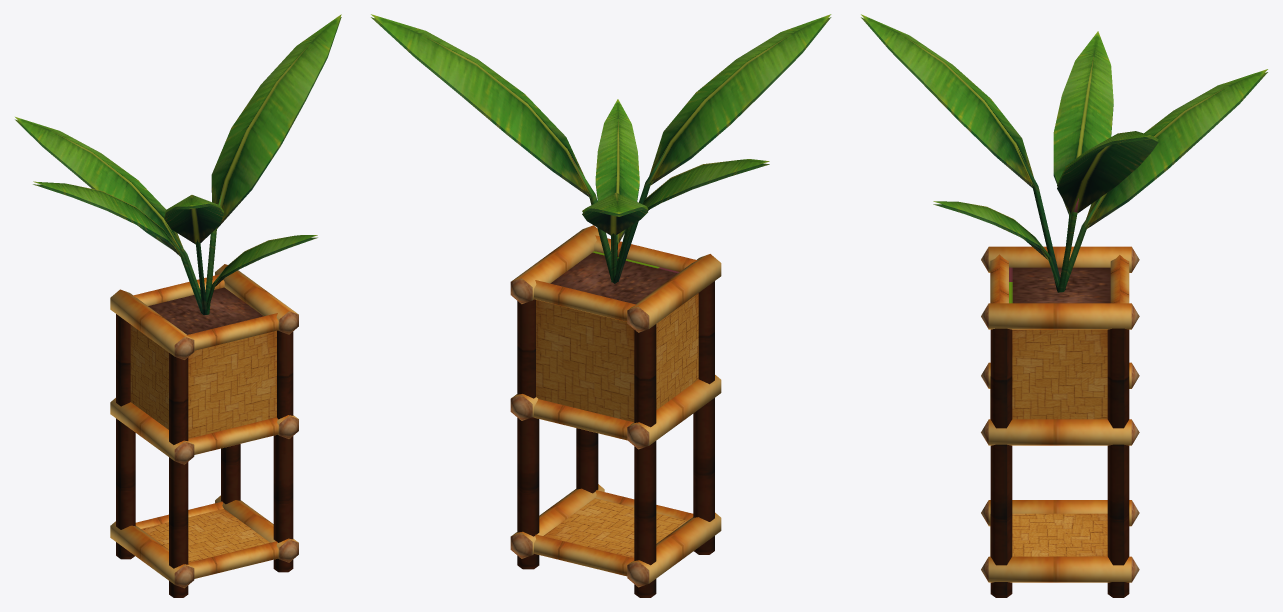
File: Bamboo_Plant_01.FBX
3 views of the same model, side by side, from view 1: azimuth 30°, elevation 25°; view 2: azimuth 150°, elevation 25°; view 3: azimuth 270°, elevation 25° (orthographic). The views are drawn at different scales.
Parts seen in each view (by area): view 1: Bamboo_Plant_01; view 2: Bamboo_Plant_01; view 3: Bamboo_Plant_01.
Boxes of the visible parts, x1,y1,x2,y2 form: Bamboo_Plant_01: [15, 14, 341, 597]; Bamboo_Plant_01: [371, 14, 831, 597]; Bamboo_Plant_01: [861, 14, 1267, 597].
Bounding box in the file's own units: 0.862 × 0.8218 × 1.17.
